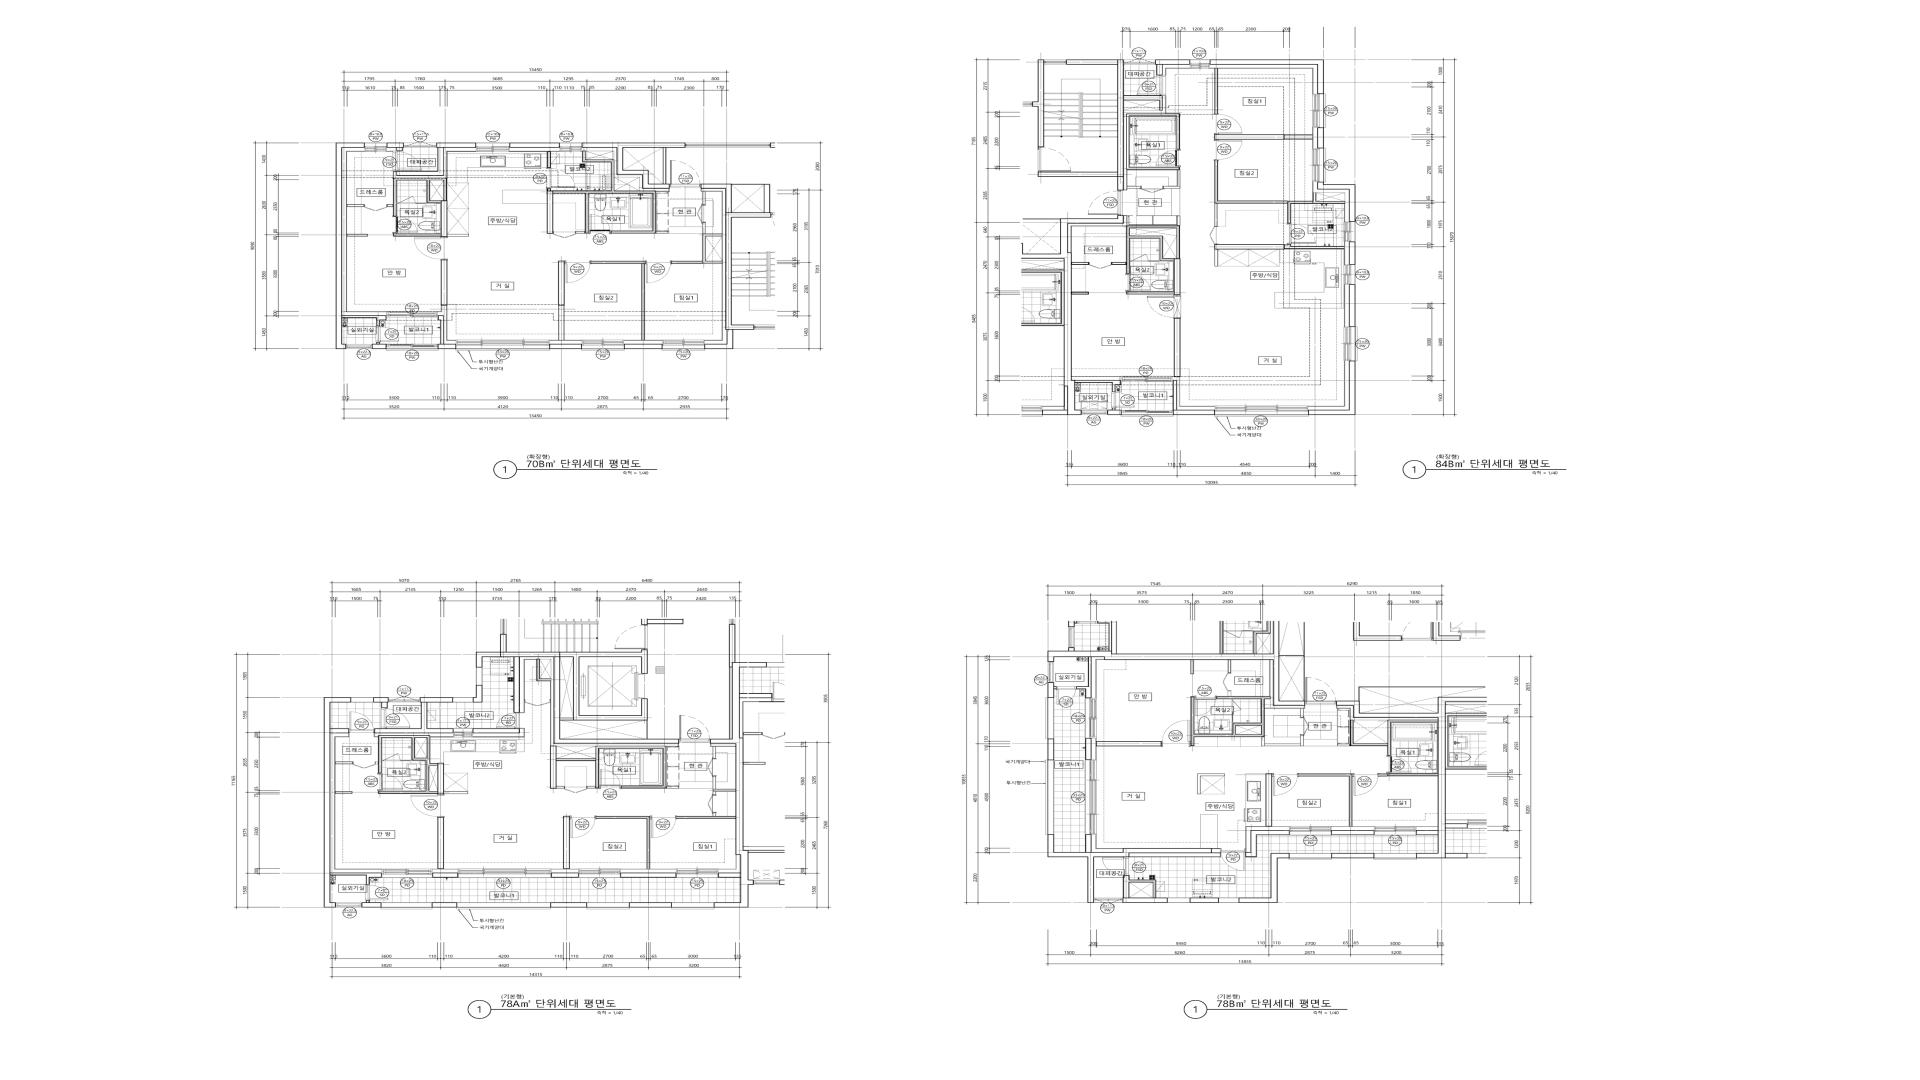door: (669, 160, 701, 187), (615, 625, 648, 650), (1088, 190, 1121, 215), (1038, 147, 1071, 172), (679, 715, 710, 741), (1305, 677, 1336, 703), (1147, 295, 1180, 319), (411, 794, 444, 817), (1162, 720, 1191, 746), (1137, 75, 1166, 96), (1220, 848, 1246, 871), (645, 261, 672, 283), (564, 261, 591, 283), (1352, 774, 1379, 796), (1288, 223, 1316, 244), (547, 168, 575, 189), (381, 708, 410, 728), (570, 816, 596, 838), (650, 816, 676, 838), (1272, 774, 1298, 796), (1214, 114, 1242, 134), (393, 151, 421, 171), (349, 712, 375, 733), (1215, 140, 1242, 160), (1102, 857, 1129, 875), (1126, 274, 1151, 292), (599, 769, 621, 789), (588, 214, 611, 233), (378, 773, 402, 791), (1156, 149, 1180, 167), (1194, 697, 1216, 716), (1388, 756, 1411, 774), (393, 216, 417, 233), (1112, 392, 1135, 408), (496, 713, 520, 728), (377, 326, 399, 342), (366, 885, 388, 900), (524, 699, 550, 706), (1300, 717, 1309, 735), (564, 786, 587, 793), (553, 231, 576, 238), (1089, 262, 1111, 269), (1141, 186, 1163, 193), (382, 753, 400, 761), (708, 795, 716, 813), (708, 758, 716, 776), (1210, 226, 1218, 244), (1130, 254, 1148, 262), (397, 196, 415, 204), (697, 205, 705, 223), (1223, 673, 1231, 691), (353, 762, 376, 768), (364, 205, 387, 211), (1232, 699, 1241, 712)
wall: (1048, 621, 1305, 706), (676, 624, 748, 908), (476, 650, 679, 744), (1336, 697, 1446, 858), (1038, 60, 1163, 190), (520, 657, 679, 746), (1060, 215, 1124, 415), (324, 697, 382, 908), (1048, 834, 1220, 903), (701, 184, 771, 349), (336, 143, 386, 349), (547, 151, 656, 234), (1215, 160, 1345, 223), (342, 148, 386, 315), (330, 733, 382, 873), (550, 746, 666, 789), (1111, 226, 1180, 295), (582, 143, 685, 189), (591, 261, 645, 340), (701, 189, 727, 344), (1124, 96, 1166, 190), (1191, 697, 1271, 746), (378, 735, 444, 794), (1210, 60, 1324, 94), (582, 148, 669, 191), (393, 178, 447, 237), (1210, 65, 1317, 94), (1126, 114, 1180, 170), (1298, 774, 1352, 827), (596, 816, 650, 869), (374, 697, 453, 733), (396, 143, 476, 176), (1309, 361, 1356, 415), (1239, 853, 1289, 903), (393, 148, 476, 178), (1264, 660, 1305, 717), (1068, 215, 1127, 253), (1309, 361, 1349, 410), (1317, 182, 1356, 222), (1173, 380, 1215, 415), (1313, 182, 1349, 222), (1336, 706, 1438, 720), (1172, 377, 1215, 410), (1123, 875, 1168, 903), (550, 306, 582, 344), (1246, 830, 1290, 857), (1246, 826, 1290, 852), (1032, 60, 1044, 147), (1215, 244, 1345, 249), (438, 306, 455, 344), (438, 315, 456, 349), (1214, 134, 1313, 140), (1197, 774, 1225, 794), (1091, 835, 1123, 852), (1091, 657, 1104, 698), (1155, 60, 1190, 75), (1262, 735, 1304, 746), (473, 728, 524, 737), (713, 776, 736, 795), (706, 236, 722, 261), (718, 855, 740, 873), (563, 816, 570, 869), (1129, 853, 1220, 857), (437, 817, 444, 869), (710, 744, 736, 758), (1129, 883, 1153, 898), (1174, 318, 1180, 377), (1096, 741, 1162, 746), (1163, 170, 1180, 189), (374, 733, 453, 737), (1266, 774, 1272, 826), (537, 659, 551, 681), (430, 180, 443, 203), (620, 873, 676, 878), (441, 260, 447, 306), (1163, 65, 1190, 75), (558, 261, 564, 306), (509, 143, 560, 148), (1349, 285, 1355, 327), (641, 619, 683, 625), (473, 728, 520, 733), (620, 869, 676, 873), (1331, 830, 1374, 835), (1332, 853, 1374, 858), (629, 903, 671, 908), (1344, 285, 1349, 327), (509, 148, 560, 152), (624, 344, 662, 349), (551, 903, 587, 908), (1331, 826, 1374, 830), (373, 697, 388, 708), (473, 685, 482, 703), (1349, 242, 1356, 265), (550, 344, 582, 349), (361, 900, 381, 908), (1085, 738, 1092, 760), (624, 340, 662, 344), (1072, 377, 1121, 380), (1190, 898, 1219, 903), (730, 667, 732, 739), (386, 143, 404, 151), (1048, 682, 1057, 698), (1317, 128, 1324, 148), (551, 873, 579, 878), (1215, 68, 1218, 114), (432, 873, 458, 878), (1048, 739, 1054, 760), (432, 903, 457, 908), (1344, 242, 1349, 265), (551, 869, 579, 873), (1091, 738, 1096, 760), (663, 148, 666, 184), (432, 869, 458, 873), (372, 342, 386, 349), (671, 261, 702, 264), (1108, 408, 1121, 415), (1416, 826, 1438, 830), (1313, 128, 1317, 148), (1214, 249, 1218, 267), (547, 151, 551, 168), (447, 234, 469, 237), (444, 792, 468, 794), (1215, 204, 1217, 226), (1191, 660, 1194, 674), (386, 148, 396, 152), (1228, 660, 1231, 673), (666, 786, 679, 789), (732, 184, 764, 185), (1177, 216, 1180, 226), (587, 786, 596, 789), (560, 718, 573, 720), (556, 786, 564, 789), (656, 231, 668, 233), (1338, 744, 1350, 746), (576, 231, 585, 233), (1228, 691, 1231, 697), (387, 205, 393, 207), (400, 760, 411, 761), (1148, 261, 1159, 262), (415, 203, 426, 204), (1232, 712, 1233, 722), (713, 813, 716, 816), (375, 762, 378, 764)
window: (455, 340, 550, 351), (1215, 406, 1309, 417), (458, 869, 551, 878), (1085, 760, 1096, 835), (1046, 760, 1054, 835), (457, 903, 551, 909), (662, 340, 705, 351), (582, 340, 624, 351), (382, 869, 432, 878), (1313, 94, 1326, 128), (1313, 148, 1326, 182), (1344, 327, 1357, 361), (1085, 698, 1096, 738), (676, 869, 718, 878), (578, 869, 620, 878), (1374, 826, 1416, 835), (1289, 826, 1331, 835), (386, 344, 438, 351), (1121, 410, 1173, 417), (1046, 698, 1054, 739), (381, 903, 432, 909), (1374, 853, 1417, 860), (1289, 853, 1332, 860), (476, 143, 509, 152), (386, 312, 438, 317), (671, 903, 714, 909), (1121, 377, 1172, 382), (587, 903, 629, 909), (1344, 222, 1356, 242), (1344, 265, 1355, 285), (364, 143, 386, 152), (560, 143, 582, 152), (388, 696, 420, 702), (404, 142, 436, 148), (1124, 59, 1155, 65), (1094, 898, 1123, 904), (453, 729, 473, 737), (1190, 60, 1210, 68), (351, 697, 373, 703), (335, 903, 361, 908), (346, 344, 372, 349), (1081, 410, 1107, 415), (453, 697, 473, 703), (1048, 662, 1054, 682), (1044, 60, 1066, 65), (1168, 898, 1190, 903), (476, 667, 482, 685), (1219, 898, 1239, 903)
